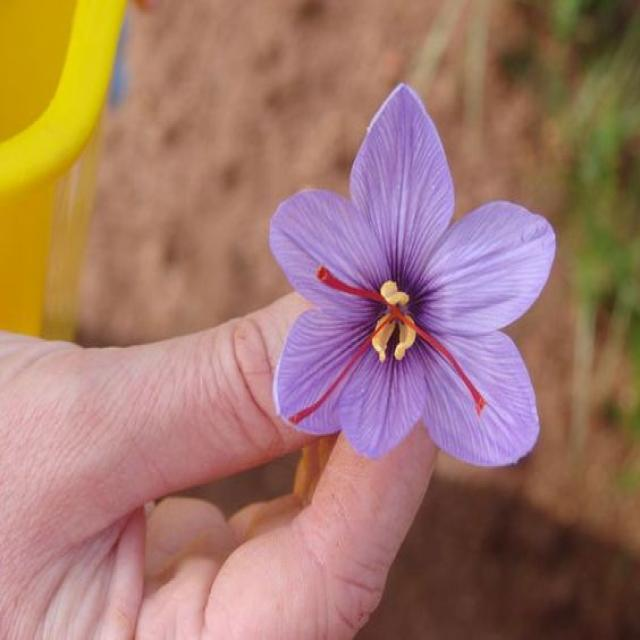Flower: (270, 85, 555, 465)
stigma: (287, 323, 384, 428), (402, 317, 495, 419), (314, 260, 396, 314)
